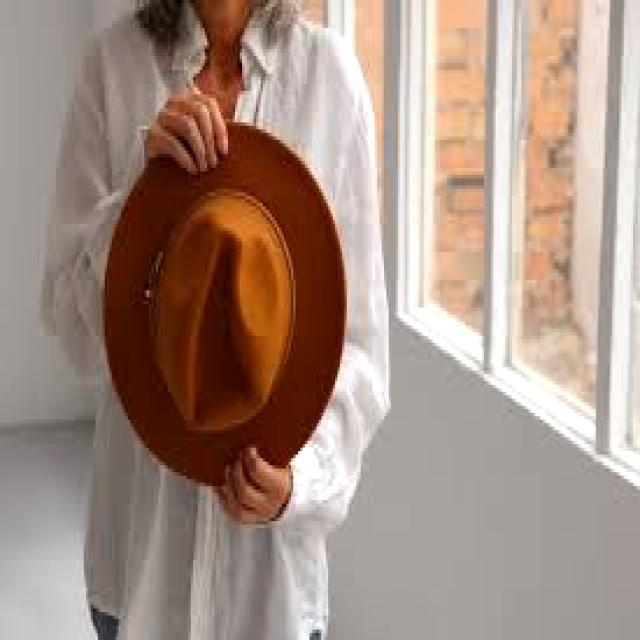hat: (103, 123, 346, 486)
